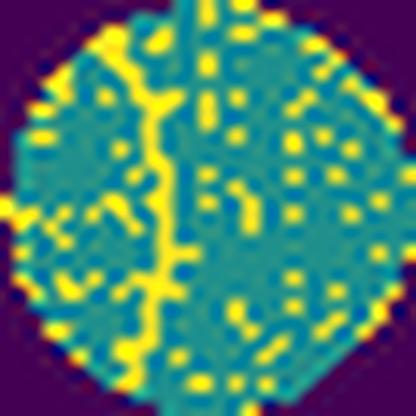Scratch: (81, 20, 207, 398)
